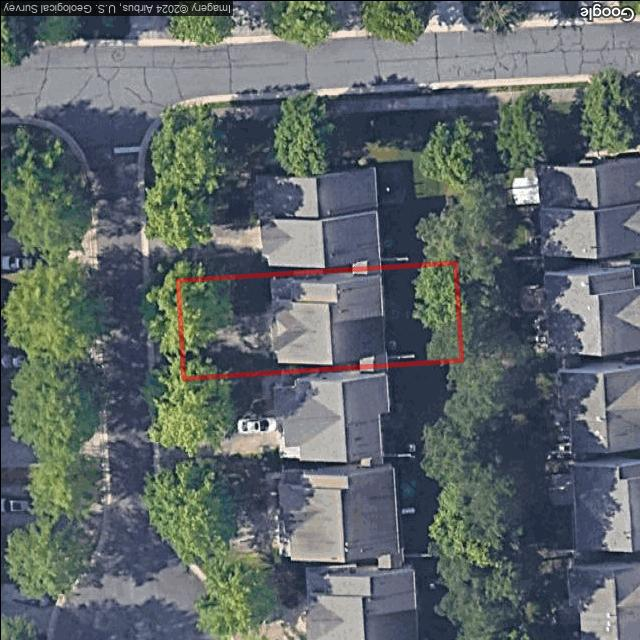Driveway: (180, 310, 275, 353)
Extra-Driveway: (152, 320, 181, 349)
Extra-Lawn: (153, 342, 182, 378), (149, 280, 178, 314)
House: (267, 267, 386, 364)
Lawn: (177, 261, 462, 377)
